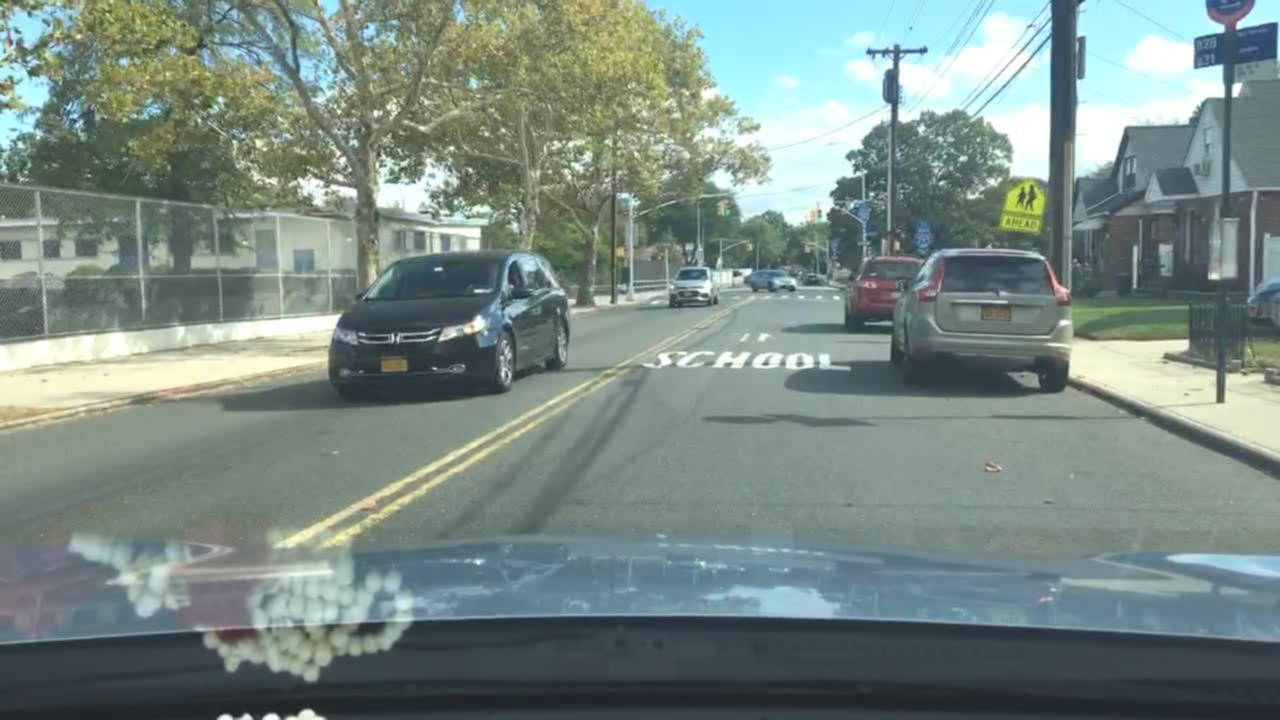Honda: (382, 323, 407, 352)
